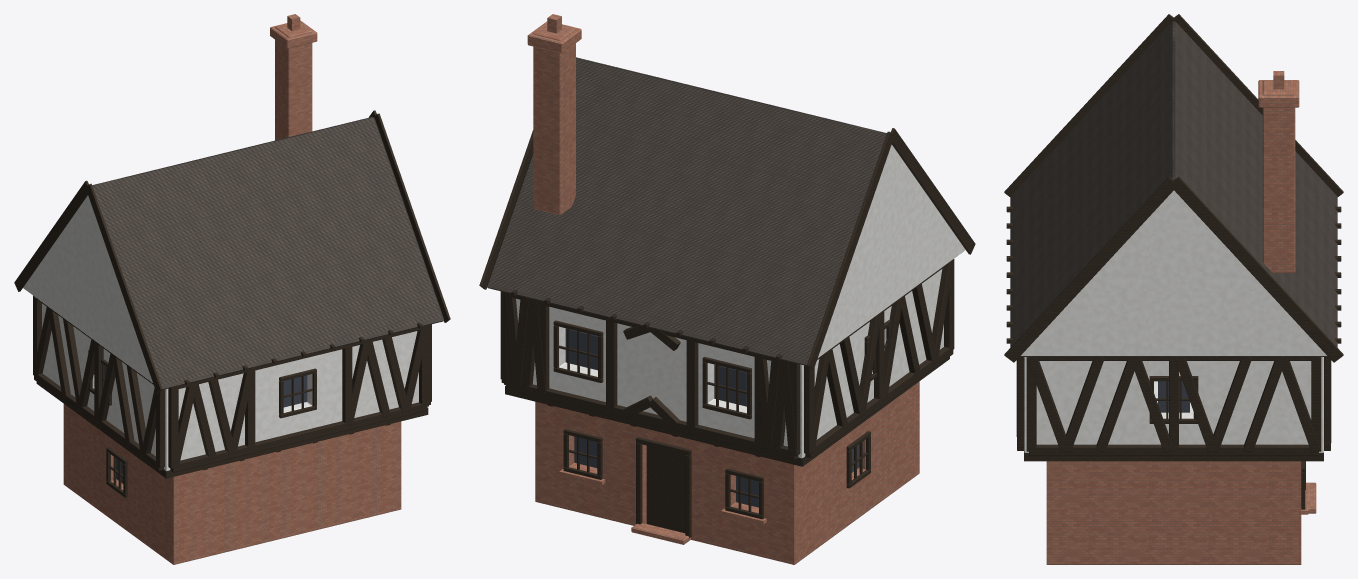
The model's file is tudor-cottage.glb.
3 views of the same model, side by side, from view 1: azimuth 30°, elevation 25°; view 2: azimuth 150°, elevation 25°; view 3: azimuth 270°, elevation 25° (orthographic). The views are drawn at different scales.
Parts seen in each view (by area): view 1: Roof, GroundFloor, TimberFrame, UpperFloor, Chimney, Bressummer, ChimneyCap; view 2: Roof, TimberFrame, GroundFloor, UpperFloor, Chimney, Door, Bressummer, panel.004, panel.003, ChimneyCap, threshold; view 3: Roof, TimberFrame, GroundFloor, UpperFloor, Chimney, Bressummer, ChimneyCap, panel.006.
Boxes of the visible parts, left/top/right/bottom form: Roof: left=23, top=117, right=443, bottom=389; GroundFloor: left=63, top=404, right=401, bottom=564; TimberFrame: left=14, top=110, right=450, bottom=497; UpperFloor: left=42, top=303, right=418, bottom=471; Chimney: left=275, top=22, right=312, bottom=140; Bressummer: left=36, top=382, right=428, bottom=478; ChimneyCap: left=270, top=20, right=317, bottom=48; Roof: left=487, top=57, right=965, bottom=365; TimberFrame: left=479, top=128, right=975, bottom=538; GroundFloor: left=535, top=381, right=919, bottom=564; UpperFloor: left=505, top=269, right=943, bottom=458; Chimney: left=533, top=23, right=575, bottom=214; Door: left=646, top=445, right=685, bottom=533; Bressummer: left=505, top=357, right=949, bottom=466; panel.004: left=565, top=328, right=597, bottom=370; panel.003: left=714, top=364, right=746, bottom=406; ChimneyCap: left=527, top=21, right=581, bottom=53; threshold: left=631, top=523, right=690, bottom=544; Roof: left=1010, top=21, right=1337, bottom=356; TimberFrame: left=1004, top=14, right=1343, bottom=509; GroundFloor: left=1046, top=461, right=1301, bottom=564; UpperFloor: left=1024, top=357, right=1323, bottom=452; Chimney: left=1262, top=80, right=1295, bottom=272; Bressummer: left=1024, top=452, right=1323, bottom=461; ChimneyCap: left=1258, top=80, right=1299, bottom=107; panel.006: left=1158, top=381, right=1189, bottom=412.
Bounding box in the file's own units: 7.76 × 10.76 × 6.79.
Materials: 6 (4 with a texture image).
